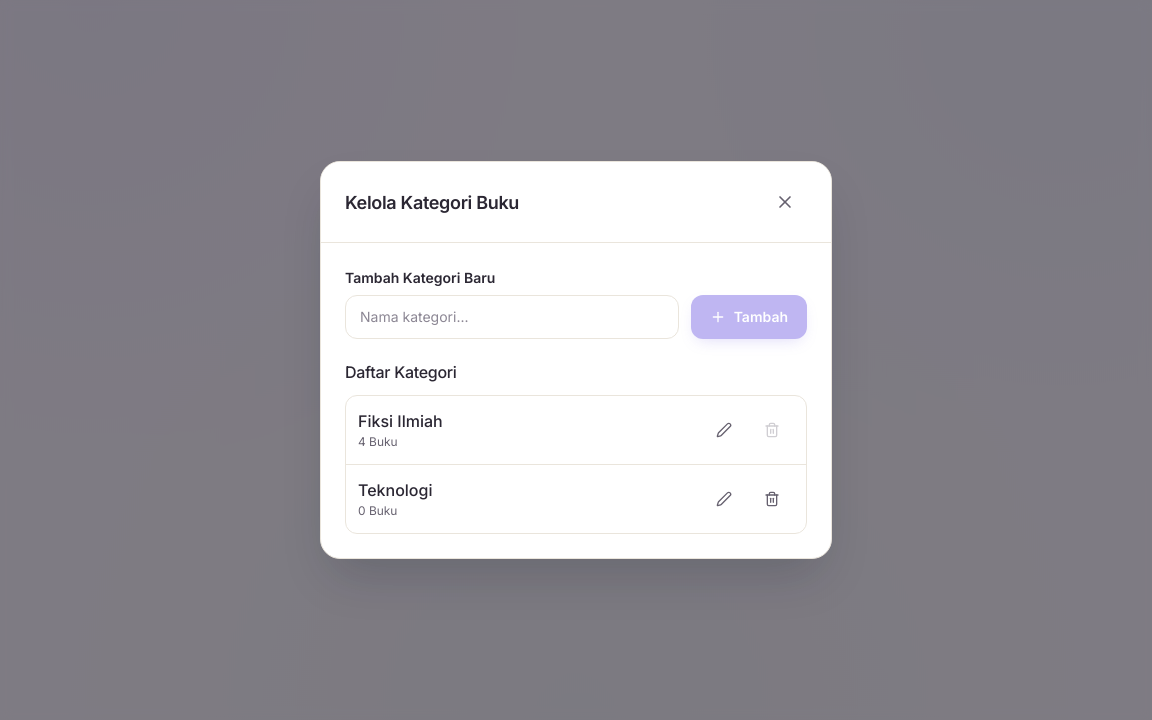
CategoryFormModal Component › should open confirmation dialog and delete category with 0 books
Later steps or results of the test are not shown.
Check: the text "Teknologi" is shown, box 358,478 -> 432,502
Check: the button named "Hapus kategori Fiksi Ilmiah" is disabled, box 750,408 -> 794,452
Step 1. Click the button named "Hapus kategori Teknologi" → (772, 499), box 750,477 -> 794,521
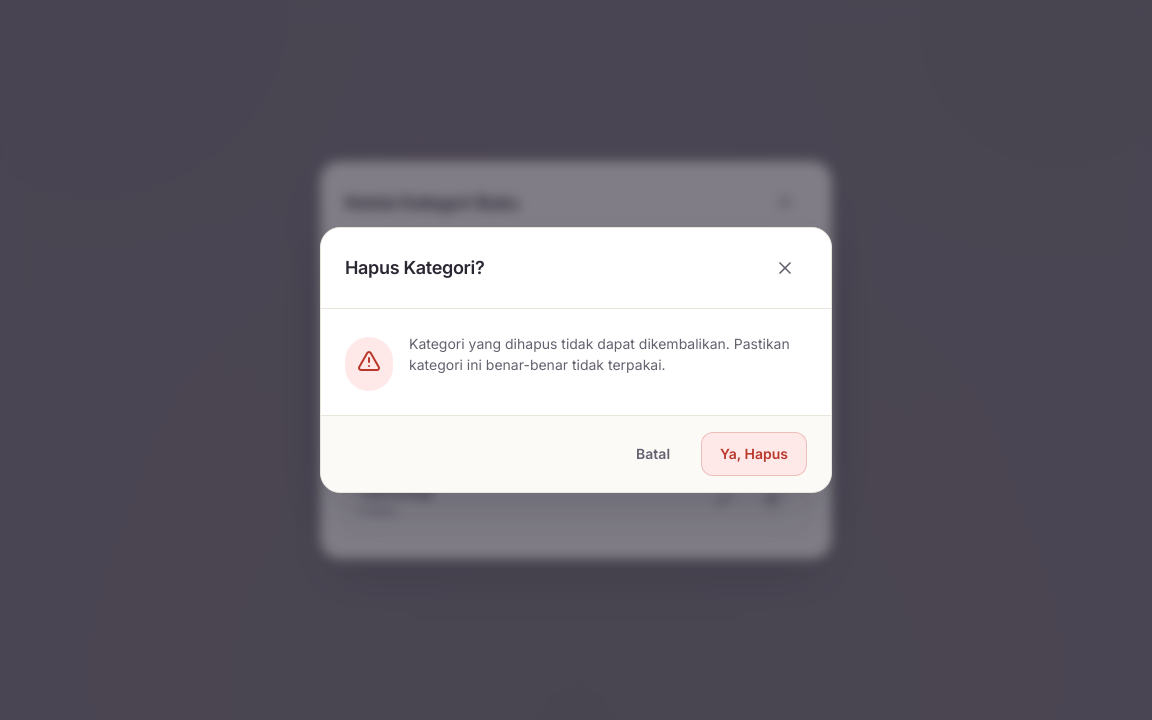
Check: the heading "Hapus Kategori?" is shown, box 345,254 -> 492,281
